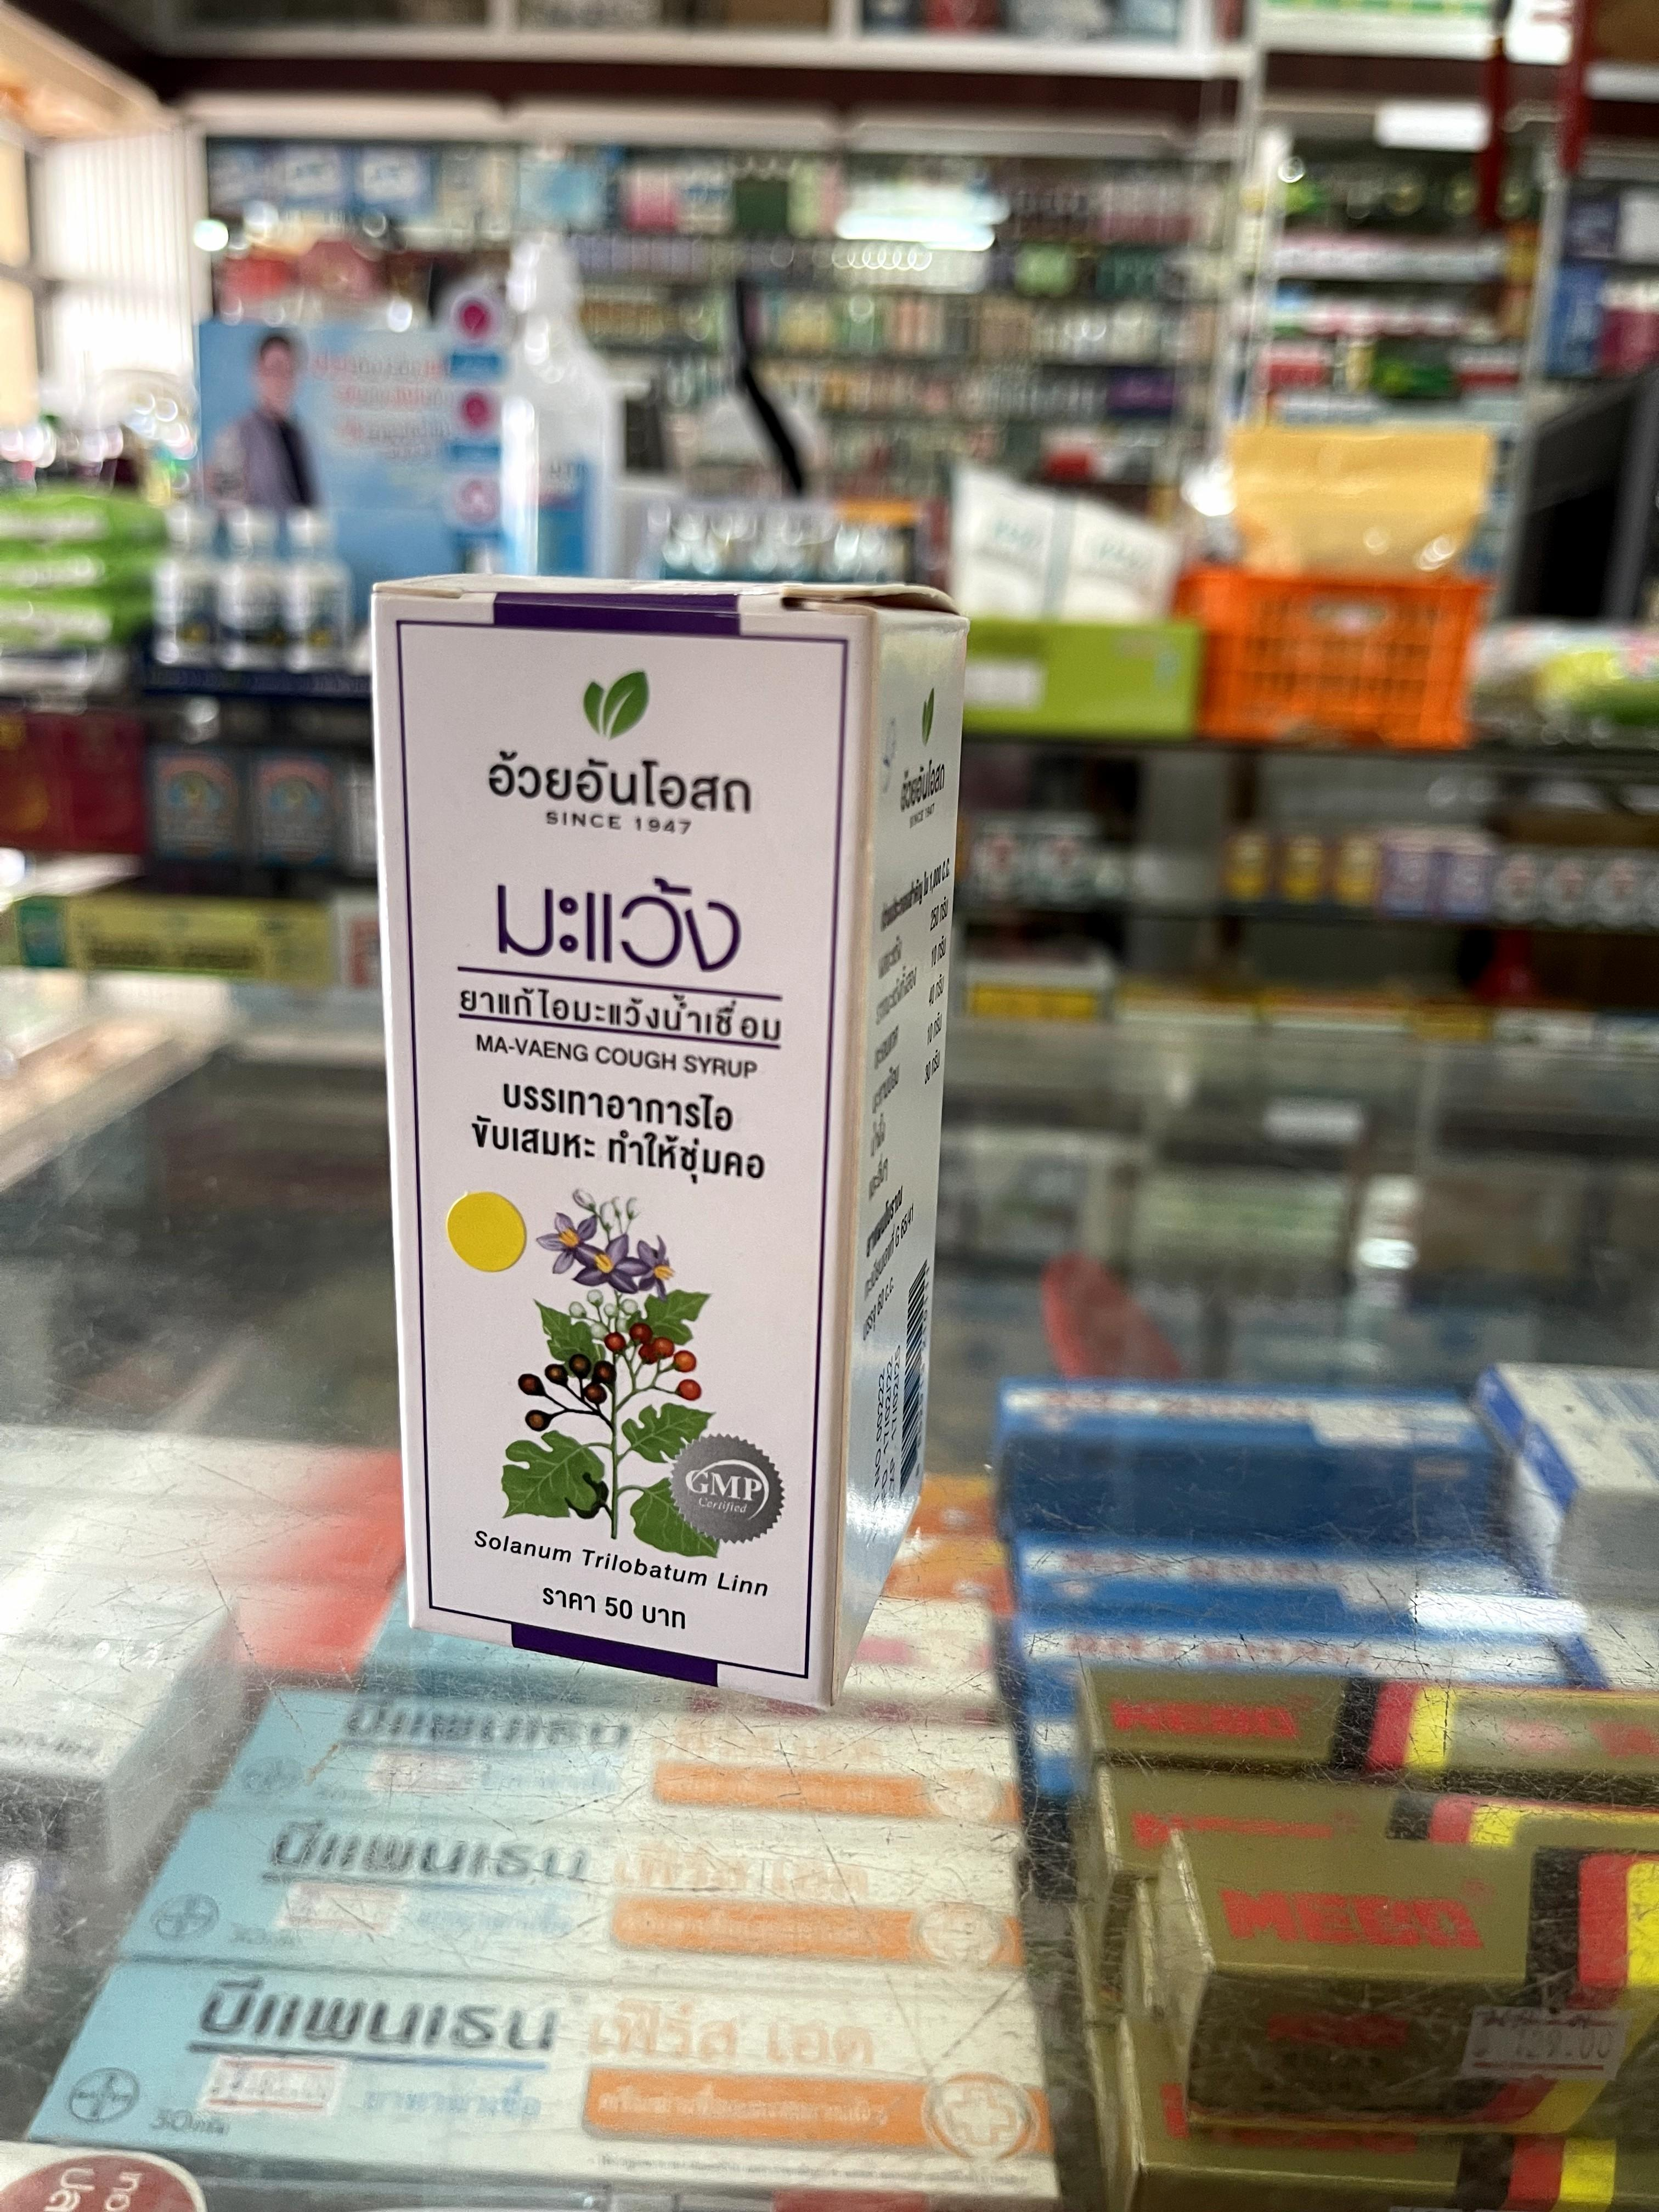Ma-Vaeng_Syrup: (382, 587, 965, 1698)
